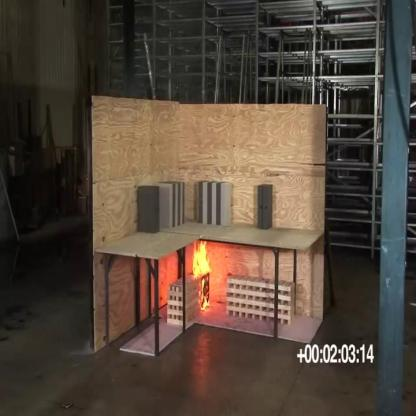fire: (191, 237, 213, 313)
